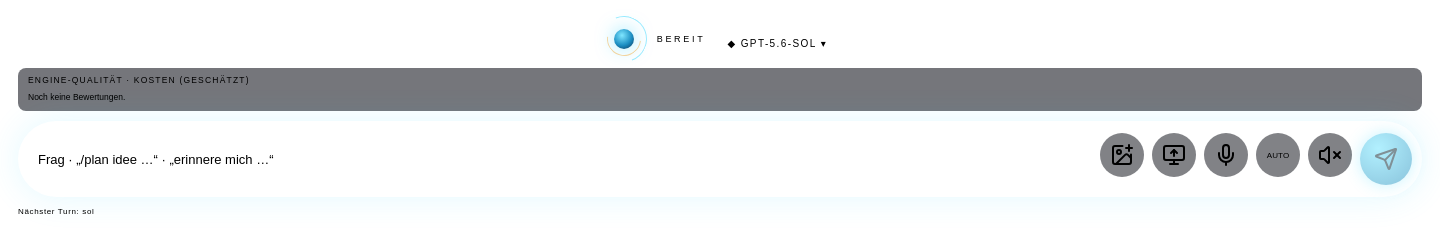
Scenario: JarvisChat (LIVE-Kontrakt /api/pa/*, Payload-Shapes aus test_pa_chat.py) › Mic-Klick → Aufnahme → Stop transkribiert in den Input, ohne Auto-Send
The image size is (1440, 231).
What coordinates should you click on to do the following:
click the button named "Diktieren"
I would click on:
 (1226, 155)
Its box is top-left (1204, 133), bottom-right (1248, 177).
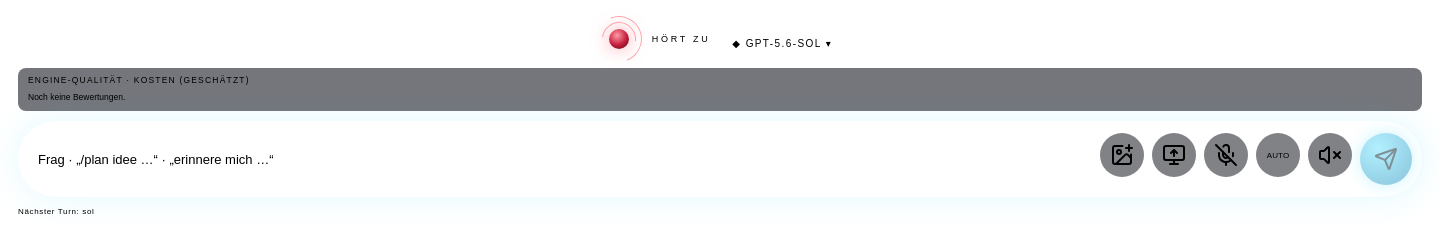
What coordinates should you click on to do the following:
click the button named "Aufnahme läuft — zum Stoppen tippen"
I would click on:
 (1226, 155)
Its box is top-left (1204, 133), bottom-right (1248, 177).
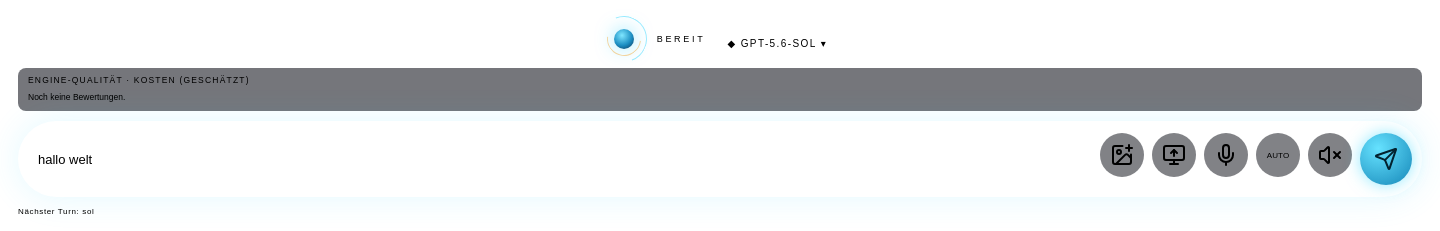
Result: the field named "Nachricht an Jarvis" holds "hallo welt" at top-left (38, 137), bottom-right (1090, 181)
